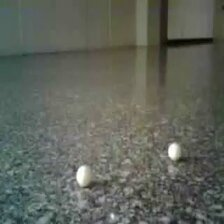w: (76, 165, 91, 187), (166, 143, 181, 162)
